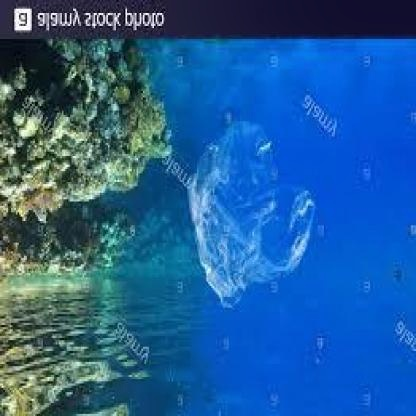pbag: (184, 121, 318, 308)
